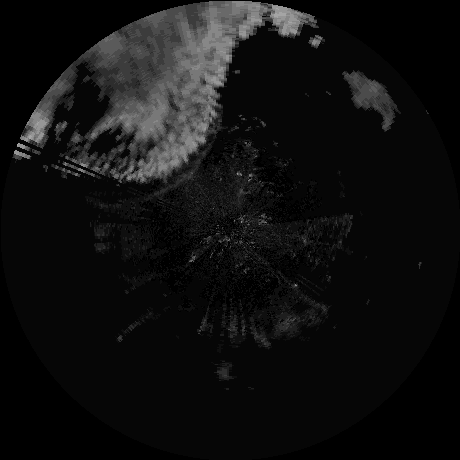frontgust: (141, 141, 212, 200)
